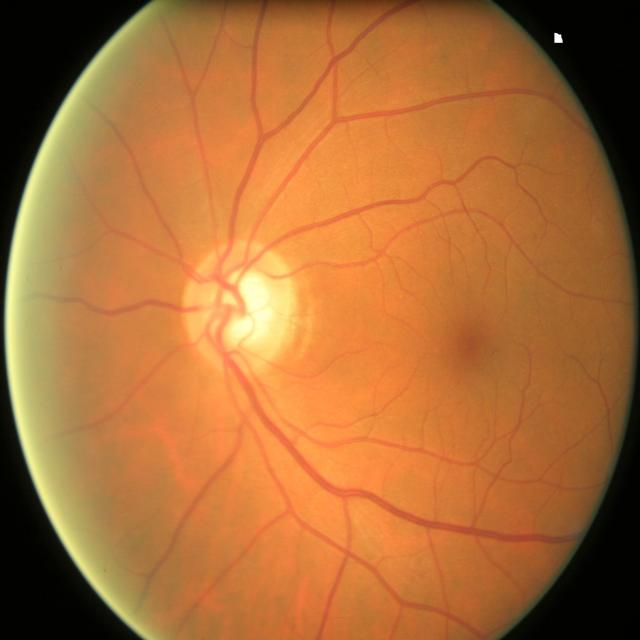OC: (208, 269, 276, 349)
OD: (181, 240, 296, 372)
